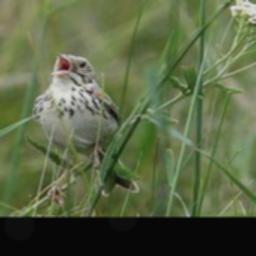Sparrow: (31, 52, 139, 200)
